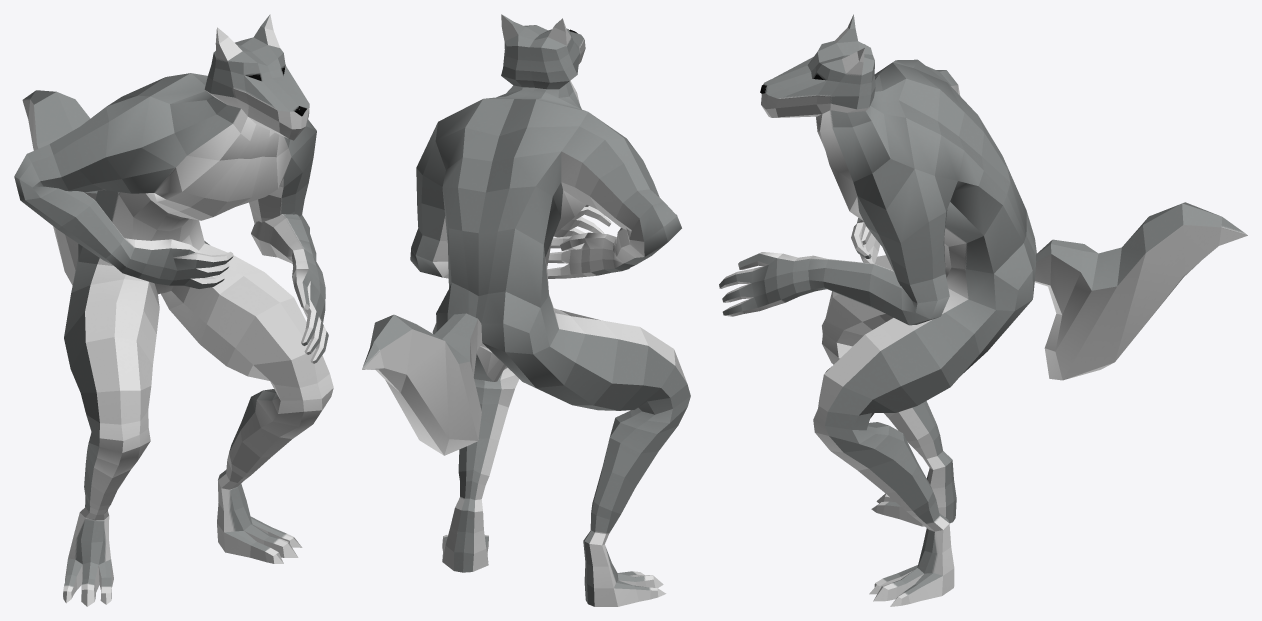
File: WolfIdle_(43).obj
3 renders of one model, left to right at view 1: azimuth 30°, elevation 25°; view 2: azimuth 150°, elevation 25°; view 3: azimuth 270°, elevation 25°, orthographic. The views are drawn at different scales.
Visible parts, largest first — view 1: Box001; view 2: Box001; view 3: Box001.
Boxes of the visible parts, x1,y1,x2,y2 form: Box001: (14,14,333,606); Box001: (362,14,690,606); Box001: (719,14,1247,606).
Bounding box in the file's own units: 69.15 × 132 × 116.
